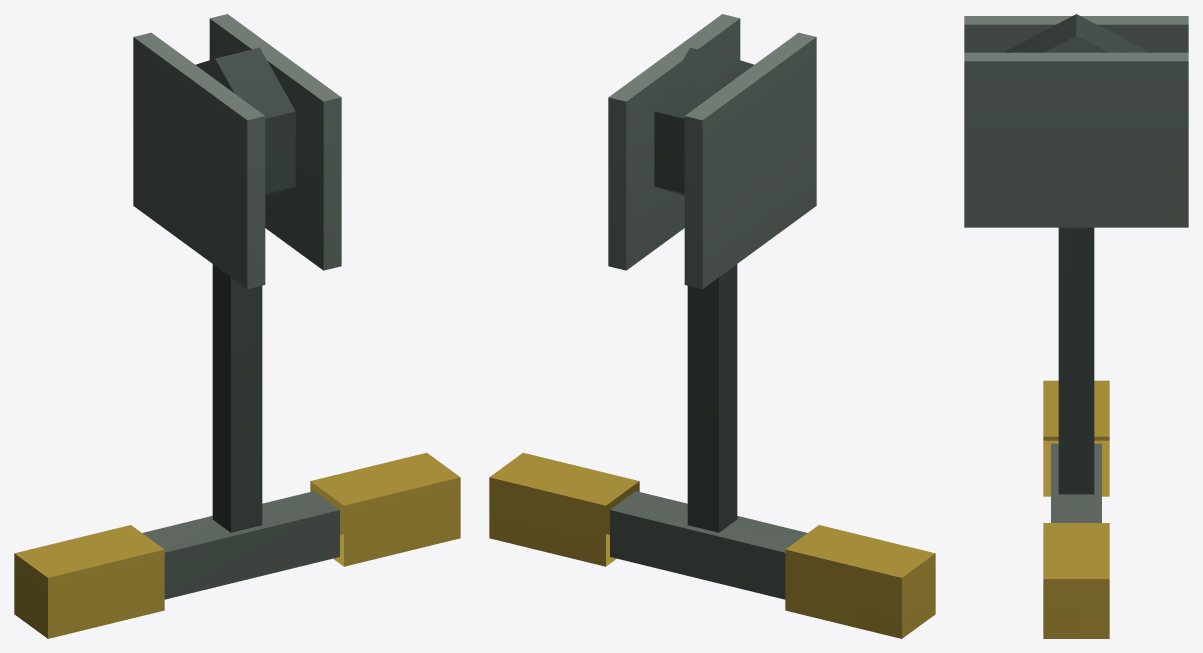
Rendered from custom-polia-tirolesa.glb.
3 renders of one model, left to right at view 1: azimuth 30°, elevation 25°; view 2: azimuth 150°, elevation 25°; view 3: azimuth 270°, elevation 25°, orthographic.
Parts seen in each view (by area): view 1: polia-tirolesa; view 2: polia-tirolesa; view 3: polia-tirolesa.
Boxes of the visible parts, box(x1,y1,x2,y2) form: polia-tirolesa: box(14, 14, 460, 638); polia-tirolesa: box(489, 14, 935, 638); polia-tirolesa: box(964, 14, 1188, 638).
Bounding box in the file's own units: 0.92 × 1.12 × 0.44.
